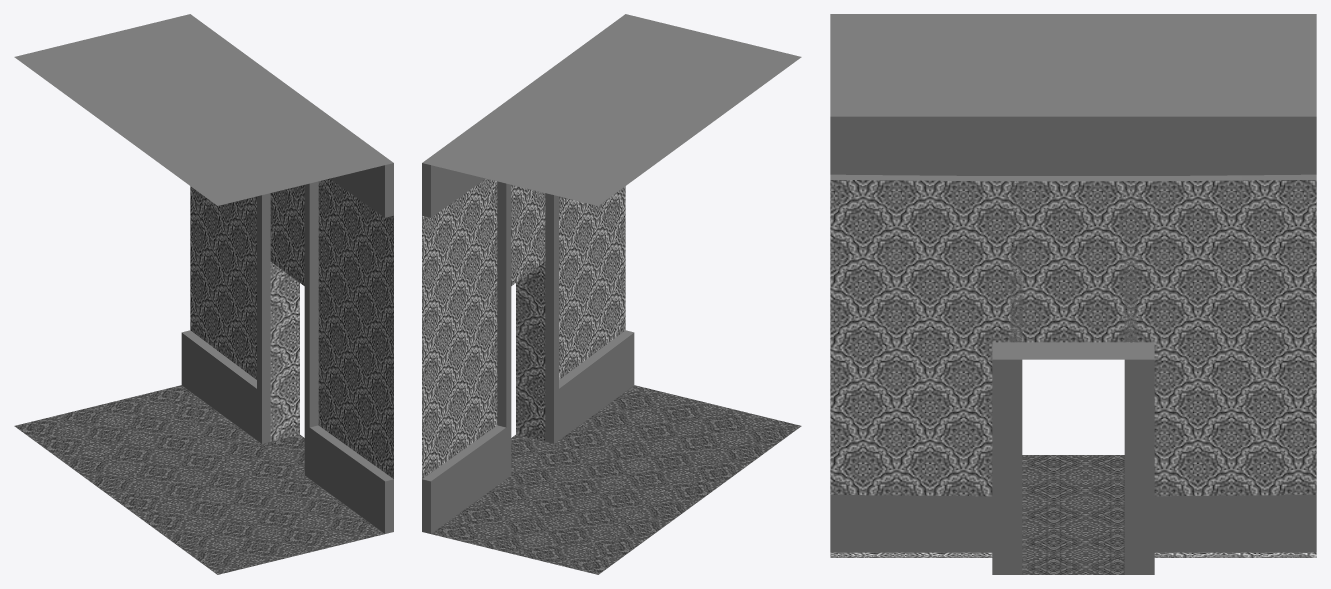
Rendered from Room_Doorway_Half.fbx.
The picture shows the model from 3 angles, left to right: view 1: azimuth 30°, elevation 25°; view 2: azimuth 150°, elevation 25°; view 3: azimuth 270°, elevation 25°; orthographic projection. The views are drawn at different scales.
Visible parts, largest first — view 1: Room_Doorway_Half; view 2: Room_Doorway_Half; view 3: Room_Doorway_Half.
Boxes of the visible parts, x1,y1,x2,y2 form: Room_Doorway_Half: (14, 14, 393, 574); Room_Doorway_Half: (422, 14, 801, 574); Room_Doorway_Half: (830, 14, 1316, 574).
Size of the model in its own units: 3.5 by 6 by 6.
Materials: 3 (2 with a texture image).
